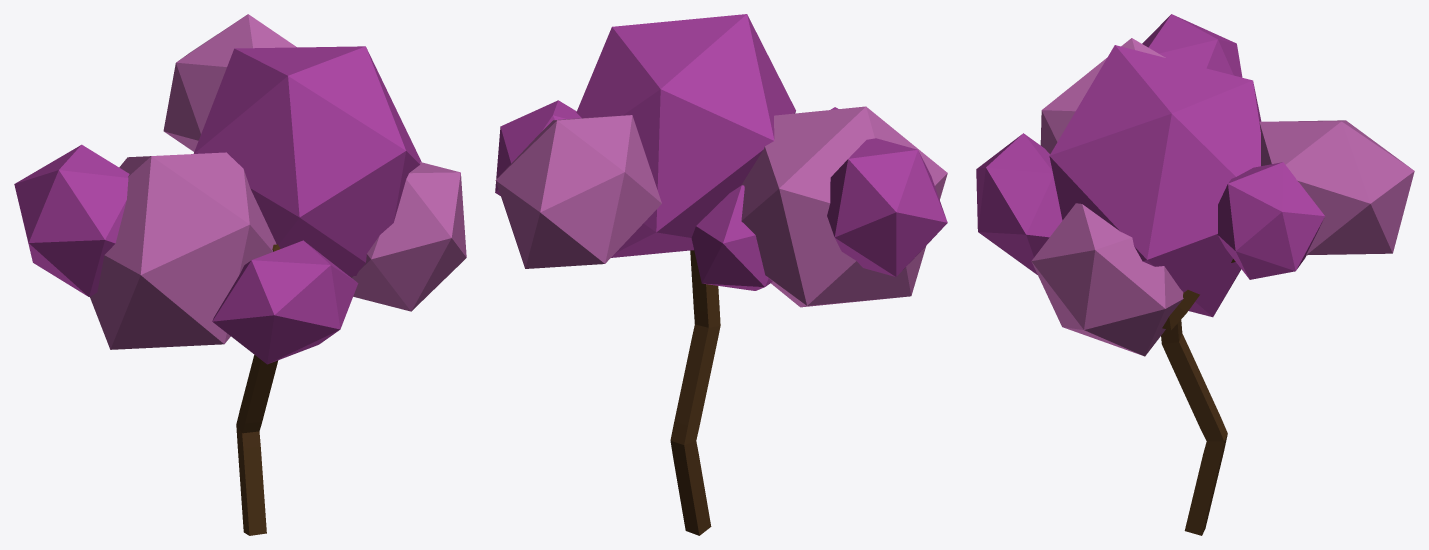
The model's file is Pink tree A2.fbx.
The picture shows the model from 3 angles, left to right: view 1: azimuth 30°, elevation 25°; view 2: azimuth 150°, elevation 25°; view 3: azimuth 270°, elevation 25°; orthographic projection.
Visible parts, largest first — view 1: Icosphere.007, Icosphere.006, Icosphere.002, Icosphere.003, Icosphere.001, Icosphere, Cube; view 2: Icosphere.007, Icosphere.006, Icosphere, Icosphere.002, Cube, Icosphere.004, Icosphere.005; view 3: Icosphere.007, Icosphere.001, Icosphere, Icosphere.005, Icosphere.003, Cube, Icosphere.002, Icosphere.006.
Boxes of the visible parts, left/top/right/bottom form: Icosphere.007: left=193, top=46, right=421, bottom=276; Icosphere.006: left=90, top=152, right=276, bottom=349; Icosphere.002: left=14, top=144, right=129, bottom=296; Icosphere.003: left=212, top=240, right=358, bottom=364; Icosphere.001: left=350, top=162, right=466, bottom=311; Icosphere: left=163, top=14, right=296, bottom=151; Cube: left=236, top=244, right=280, bottom=535; Icosphere.007: left=576, top=14, right=795, bottom=257; Icosphere.006: left=741, top=106, right=947, bottom=307; Icosphere: left=495, top=115, right=661, bottom=268; Icosphere.002: left=827, top=138, right=947, bottom=276; Cube: left=670, top=250, right=720, bottom=535; Icosphere.004: left=691, top=185, right=772, bottom=290; Icosphere.005: left=495, top=100, right=581, bottom=195; Icosphere.007: left=1049, top=45, right=1261, bottom=317; Icosphere.001: left=1031, top=203, right=1183, bottom=356; Icosphere: left=1259, top=120, right=1414, bottom=255; Icosphere.005: left=1217, top=162, right=1324, bottom=279; Icosphere.003: left=976, top=133, right=1062, bottom=274; Cube: left=1161, top=259, right=1235, bottom=535; Icosphere.002: left=1142, top=14, right=1242, bottom=77; Icosphere.006: left=1040, top=38, right=1165, bottom=153.
Size of the model in its own units: 394 by 468 by 386.
